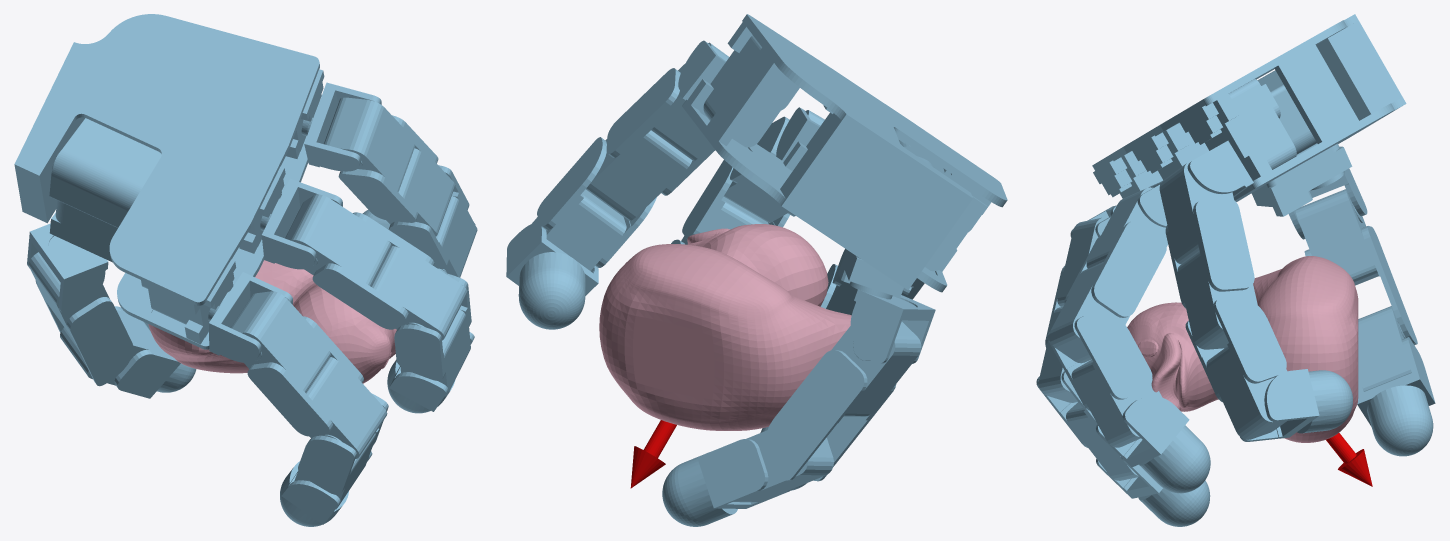
The picture shows the model from 3 angles, left to right: view 1: azimuth 30°, elevation 25°; view 2: azimuth 150°, elevation 25°; view 3: azimuth 270°, elevation 25°; orthographic projection. The views are drawn at different scales.
Visible parts, largest first — view 1: world, rubber_duck.stl; view 2: world, rubber_duck.stl; view 3: world, rubber_duck.stl.
Boxes of the visible parts, x1,y1,x2,y2 form: world: (14, 14, 477, 526); rubber_duck.stl: (148, 260, 396, 383); world: (506, 14, 1007, 526); rubber_duck.stl: (599, 224, 851, 430); world: (1036, 14, 1435, 526); rubber_duck.stl: (1127, 256, 1358, 442).
Bounding box in the file's own units: 0.1988 × 0.2002 × 0.1575.
